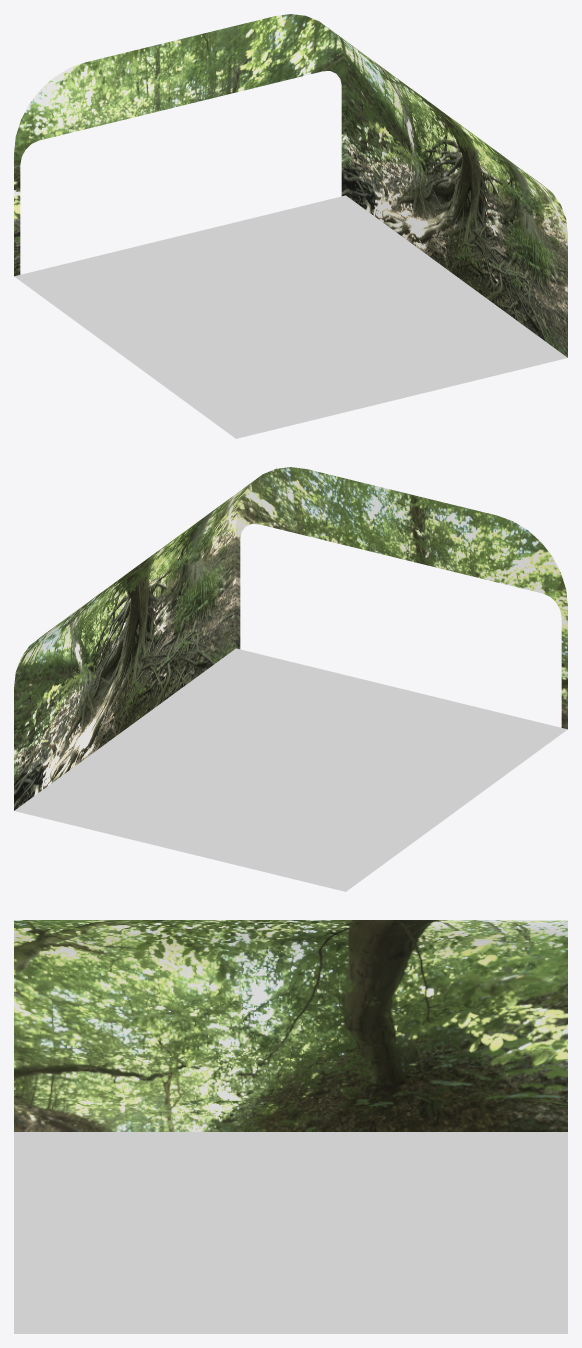
The model's file is PZ_room2.glb.
3 renders of one model, top to bottom at view 1: azimuth 30°, elevation 25°; view 2: azimuth 150°, elevation 25°; view 3: azimuth 270°, elevation 25°, orthographic. The views are drawn at different scales.
Parts seen in each view (by area): view 1: Plane; view 2: Plane; view 3: Plane.
Part boxes in pixels (x1=…): Plane: x1=14, y1=14, x2=567, y2=438; Plane: x1=14, y1=467, x2=567, y2=891; Plane: x1=14, y1=920, x2=567, y2=1333.
Size of the model in its own units: 17.67 by 10 by 20.48.
2 materials, 1 textured.
